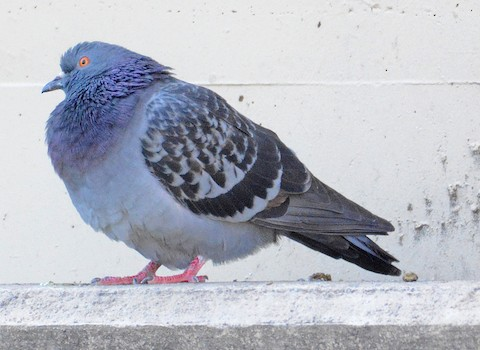pigeon: (41, 40, 404, 284)
